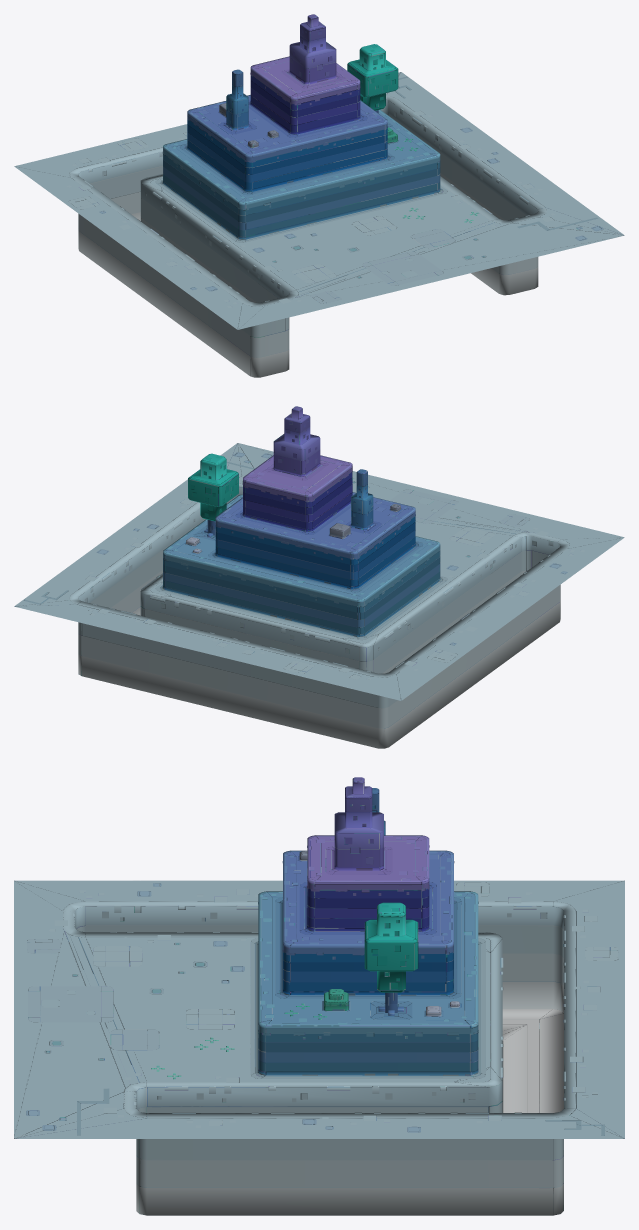
Rendered from C_mountain2_09.fbx.
3 renders of one model, top to bottom at view 1: azimuth 30°, elevation 25°; view 2: azimuth 150°, elevation 25°; view 3: azimuth 270°, elevation 25°, orthographic. The views are drawn at different scales.
Parts seen in each view (by area): view 1: C_mountain2_09.002; view 2: C_mountain2_09.002; view 3: C_mountain2_09.002.
Boxes of the visible parts, x1,y1,x2,y2 form: C_mountain2_09.002: [14, 14, 624, 377]; C_mountain2_09.002: [14, 406, 624, 748]; C_mountain2_09.002: [14, 777, 624, 1215].
Size of the model in its own units: 50 by 30.54 by 50.
